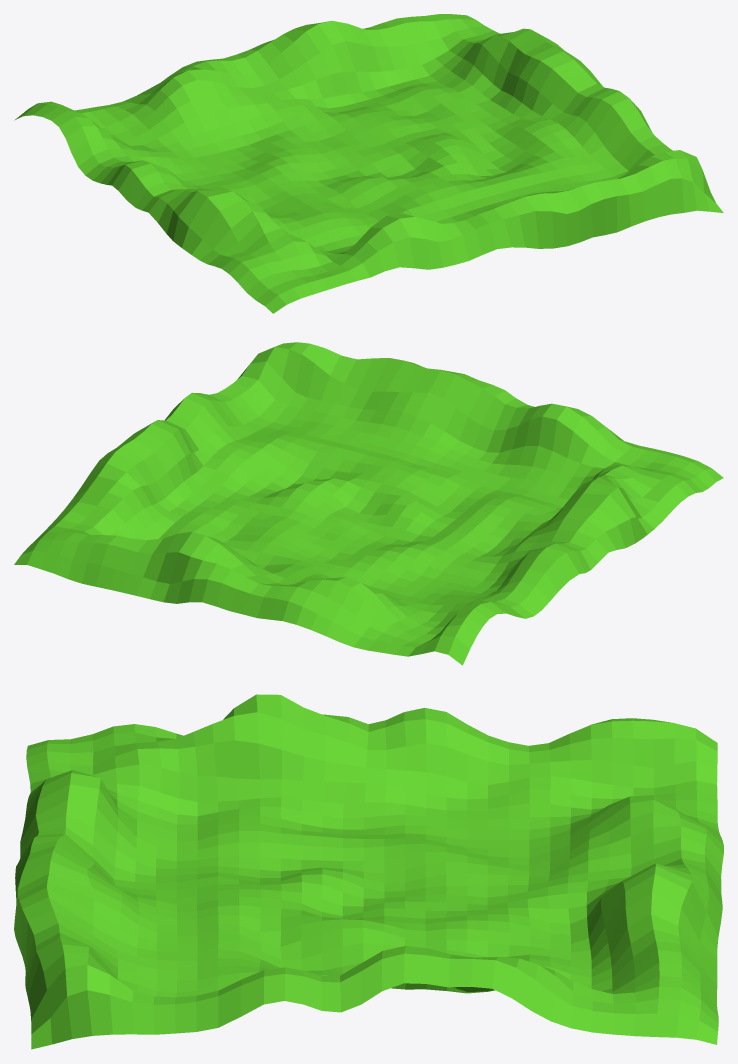
File: Terrain2.glb
The picture shows the model from 3 angles, top to bottom: view 1: azimuth 30°, elevation 25°; view 2: azimuth 150°, elevation 25°; view 3: azimuth 270°, elevation 25°; orthographic projection. The views are drawn at different scales.
Parts seen in each view (by area): view 1: Plane; view 2: Plane; view 3: Plane.
Part boxes in pixels (<box>): Plane: <box>14,14,723,313</box>; Plane: <box>14,342,723,665</box>; Plane: <box>14,694,723,1049</box>.
Size of the model in its own units: 103 by 13.57 by 104.
